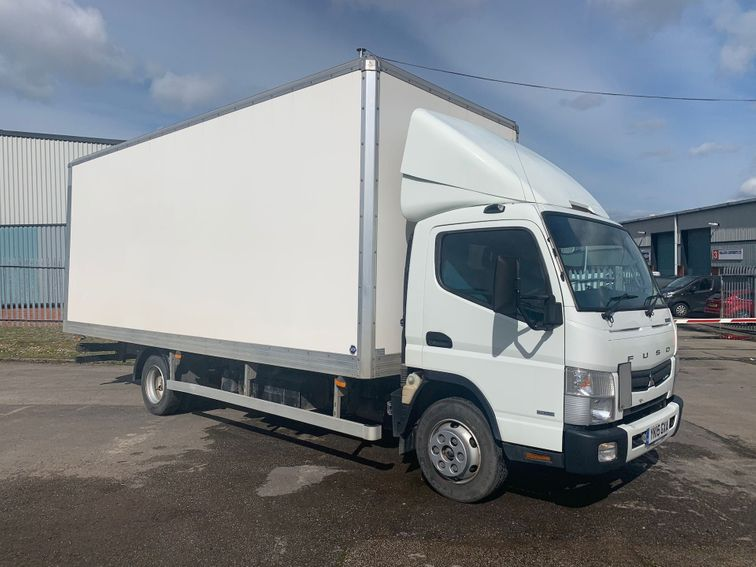Semi: (62, 58, 682, 502)
